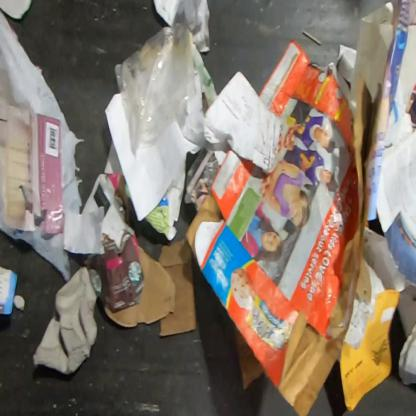cardboard: (184, 38, 384, 416), (105, 245, 176, 328), (158, 237, 197, 337)
soft_plastic: (114, 9, 199, 157)
